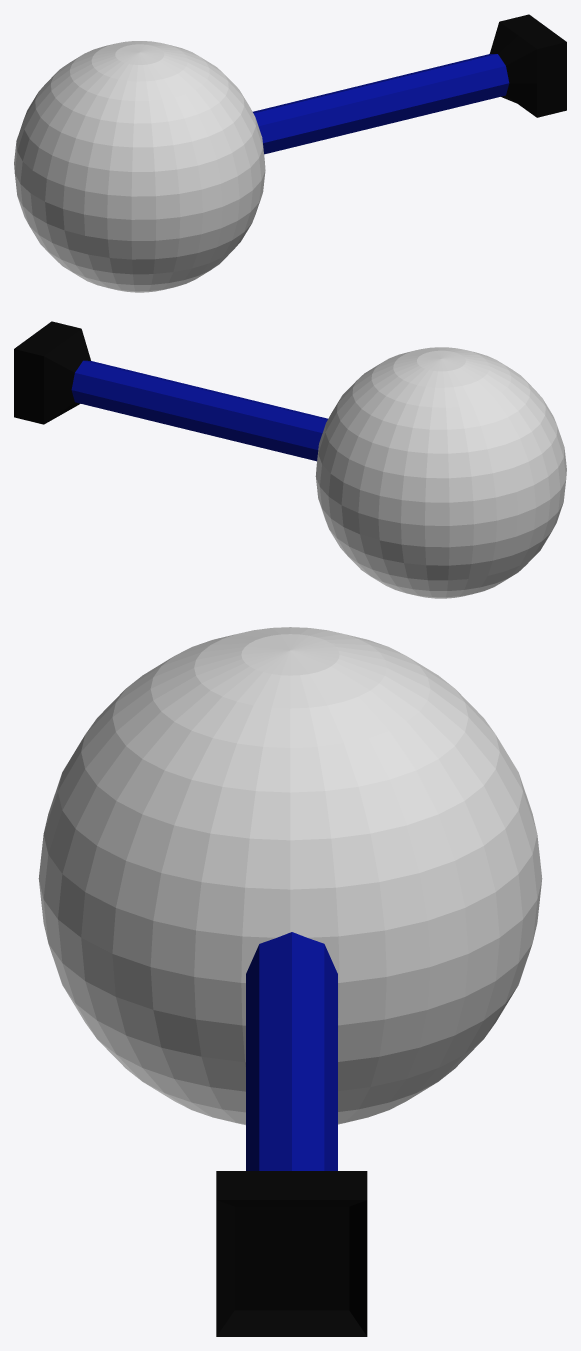
Rendered from antiAir.glb.
3 renders of one model, top to bottom at view 1: azimuth 30°, elevation 25°; view 2: azimuth 150°, elevation 25°; view 3: azimuth 270°, elevation 25°, orthographic. The views are drawn at different scales.
Parts seen in each view (by area): view 1: antiAir, Cube.002; view 2: antiAir, Cube.002; view 3: antiAir, Cube.002.
Part boxes in pixels (x1,y1,x2,y2): antiAir: [14, 41, 265, 292]; Cube.002: [253, 14, 566, 154]; antiAir: [315, 347, 566, 598]; Cube.002: [14, 321, 327, 461]; antiAir: [38, 627, 542, 1125]; Cube.002: [216, 932, 367, 1336].
Size of the model in its own units: 15.82 by 6.67 by 6.67.
